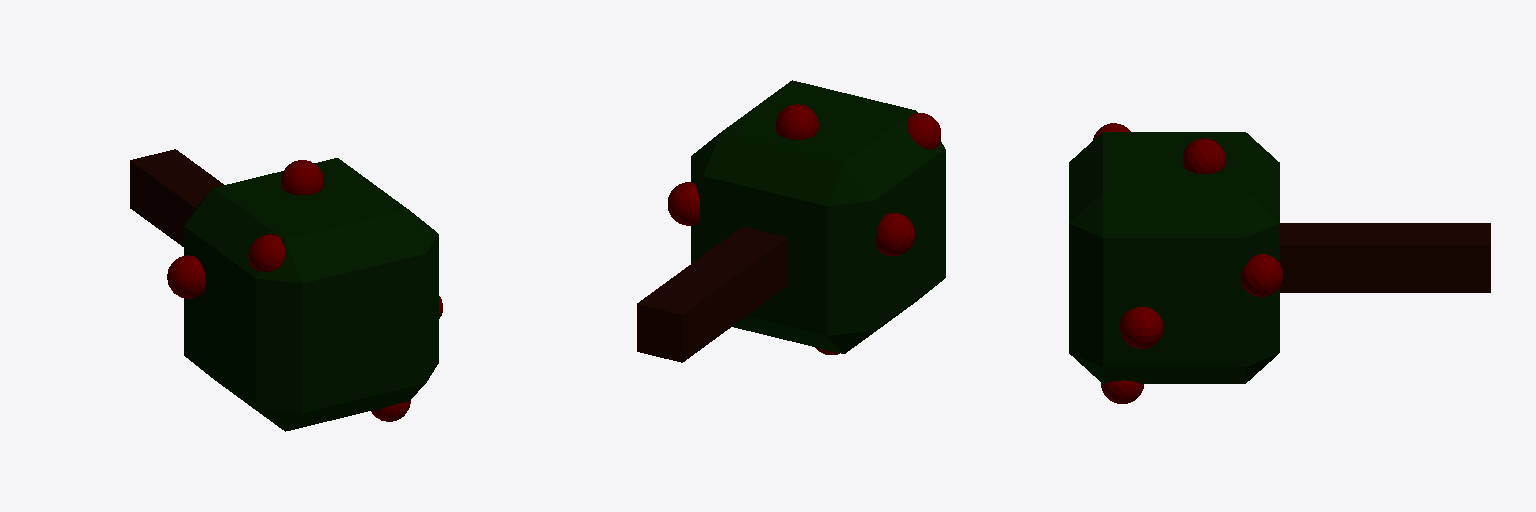
File: apple_tree_100_fruit.obj
The picture shows the model from 3 angles: view 1: azimuth 30°, elevation 25°; view 2: azimuth 150°, elevation 25°; view 3: azimuth 270°, elevation 25°; orthographic projection.
Parts seen in each view (by area): view 1: Cube, Sphere.001; view 2: Cube, Sphere.001; view 3: Cube, Sphere.001.
Boxes of the visible parts, x1,y1,x2,y2 form: Cube: [130, 149, 438, 431]; Sphere.001: [167, 160, 442, 421]; Cube: [637, 80, 945, 362]; Sphere.001: [668, 104, 940, 354]; Cube: [1069, 132, 1490, 383]; Sphere.001: [1093, 123, 1282, 403].
Bounding box in the file's own units: 5.04 × 5 × 8.